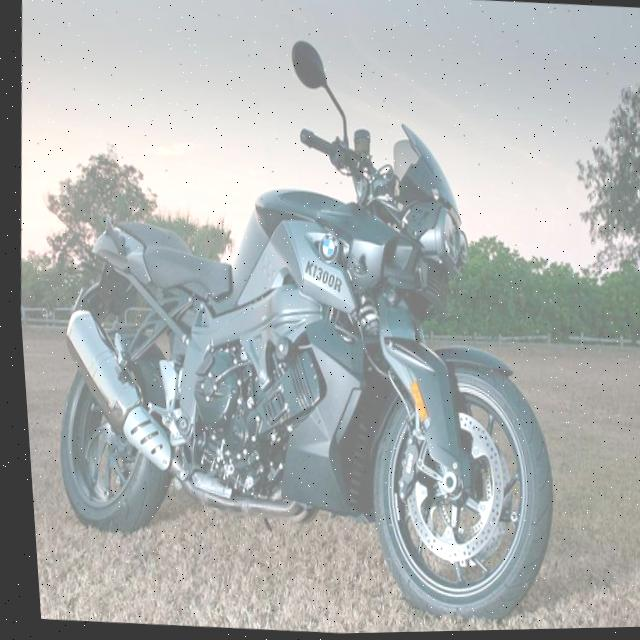motorcycle: (18, 14, 602, 636)
